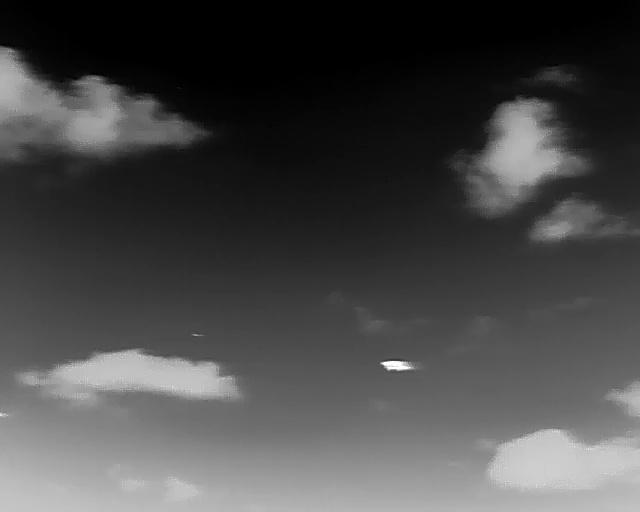fpv-drone: (380, 359, 419, 371)
